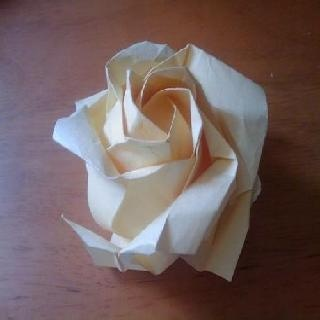8/可回收垃圾/纸: (50, 39, 269, 281)
